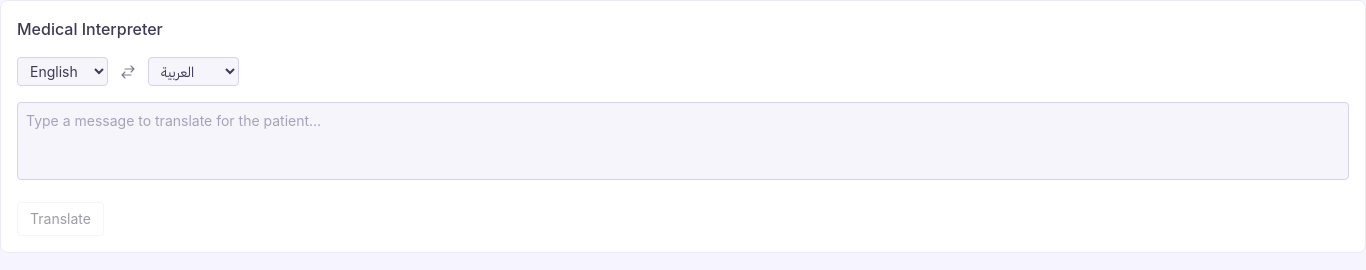
Scenario: InterpreterPanel › swap button swaps source and target languages
Expected: the dropdown with test id "source-language-select" shows "English", [17,57,108,86]
Expected: the dropdown with test id "target-language-select" shows "العربية", [148,57,239,86]
Click the button with test id "swap-languages-btn". click: (128, 72)
box: [116,60,140,84]
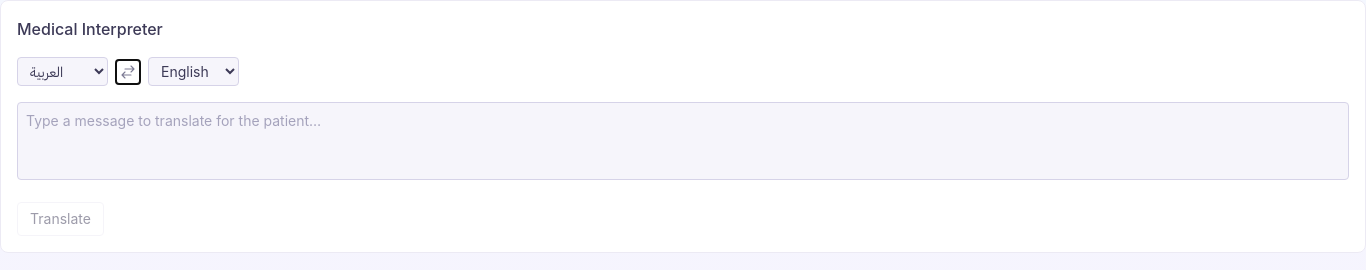
Expected: the dropdown with test id "source-language-select" shows "العربية", [17,57,108,86]
Expected: the dropdown with test id "target-language-select" shows "English", [148,57,239,86]
